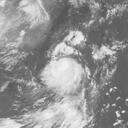cyclone: (44, 59, 84, 92)
